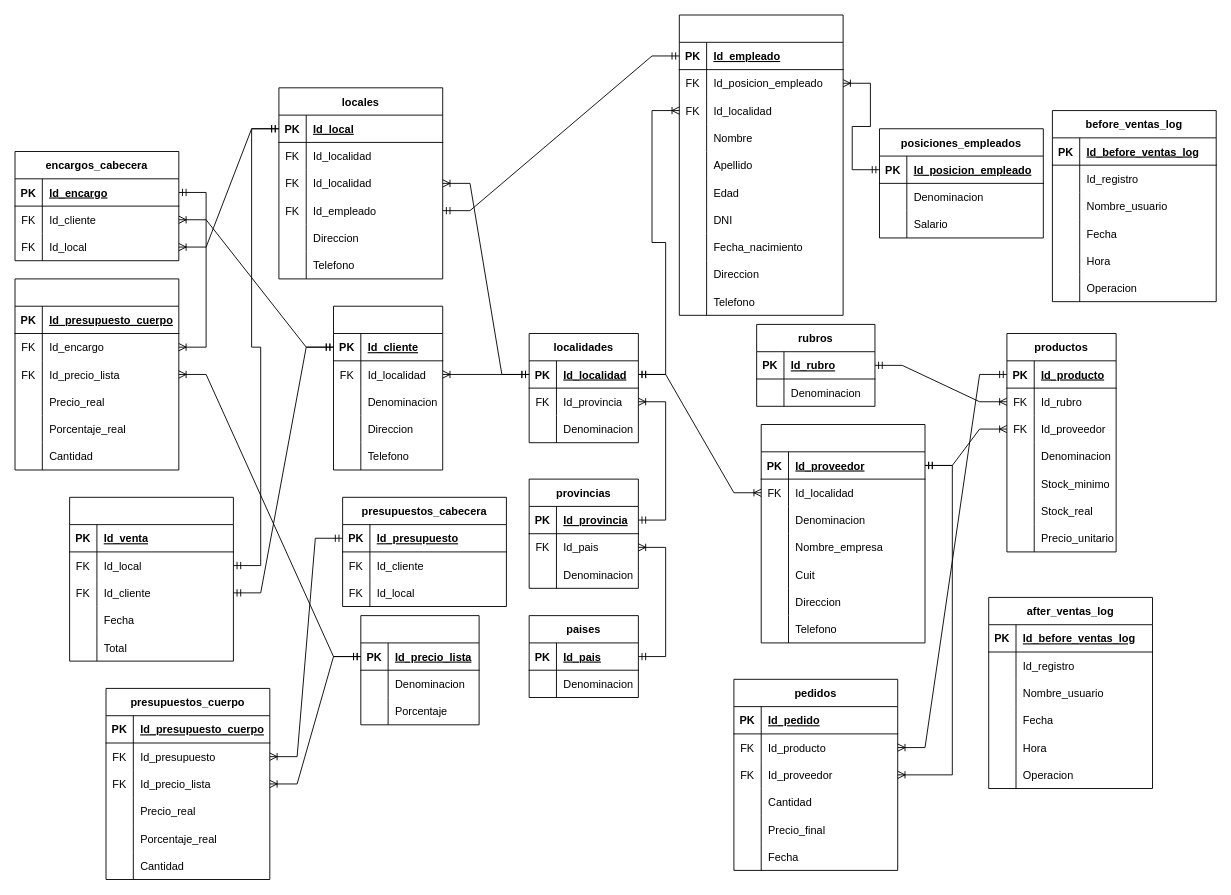
Image size: 1231x895. Some labels were removed from this diagram. The box of each missing label's shape, as (x1, y1, x2, y2) in pixels:
clientes: (333, 305, 443, 470)
empleados: (678, 14, 843, 315)
encargos_cuerpo: (14, 278, 179, 470)
precios_lista: (360, 615, 479, 725)
proveedores: (760, 424, 925, 643)
ventas: (69, 496, 233, 661)
